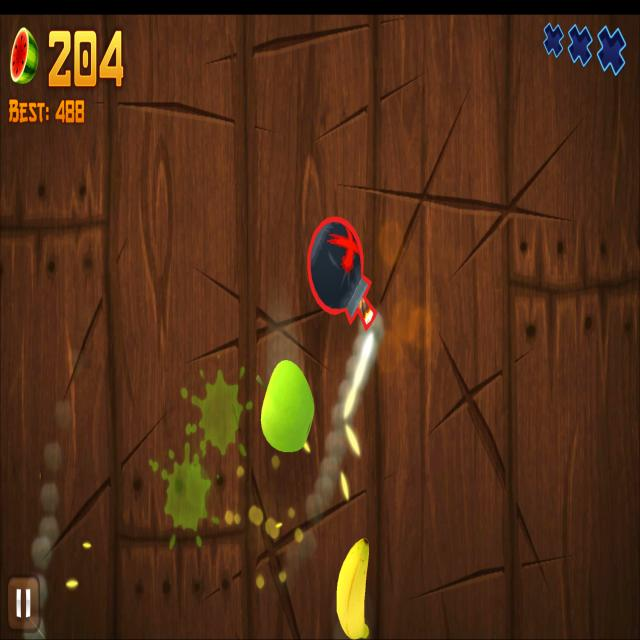bomb: (308, 215, 377, 333)
fruit: (260, 358, 316, 453), (336, 535, 370, 640)
